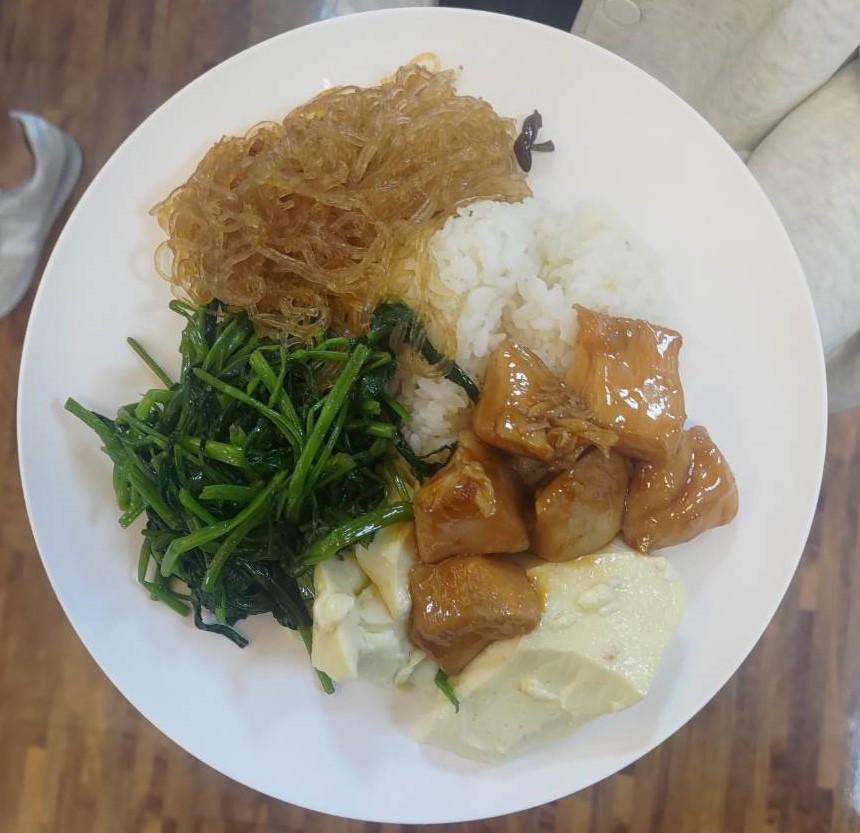big fried chicken leg: (18, 12, 836, 833)
big herbal chicken leg: (370, 194, 650, 461)
braised fish fillet: (81, 304, 426, 643), (148, 50, 524, 343), (305, 531, 682, 767)
braised pork: (405, 306, 736, 663)
